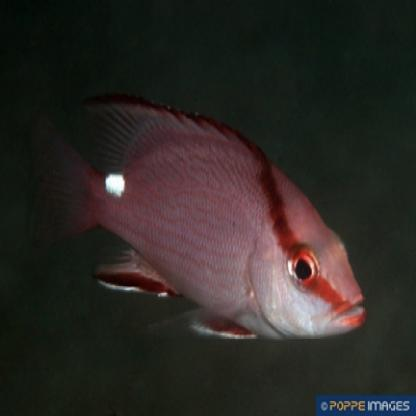Lutjanidae -Snappers-: (20, 84, 375, 350)
